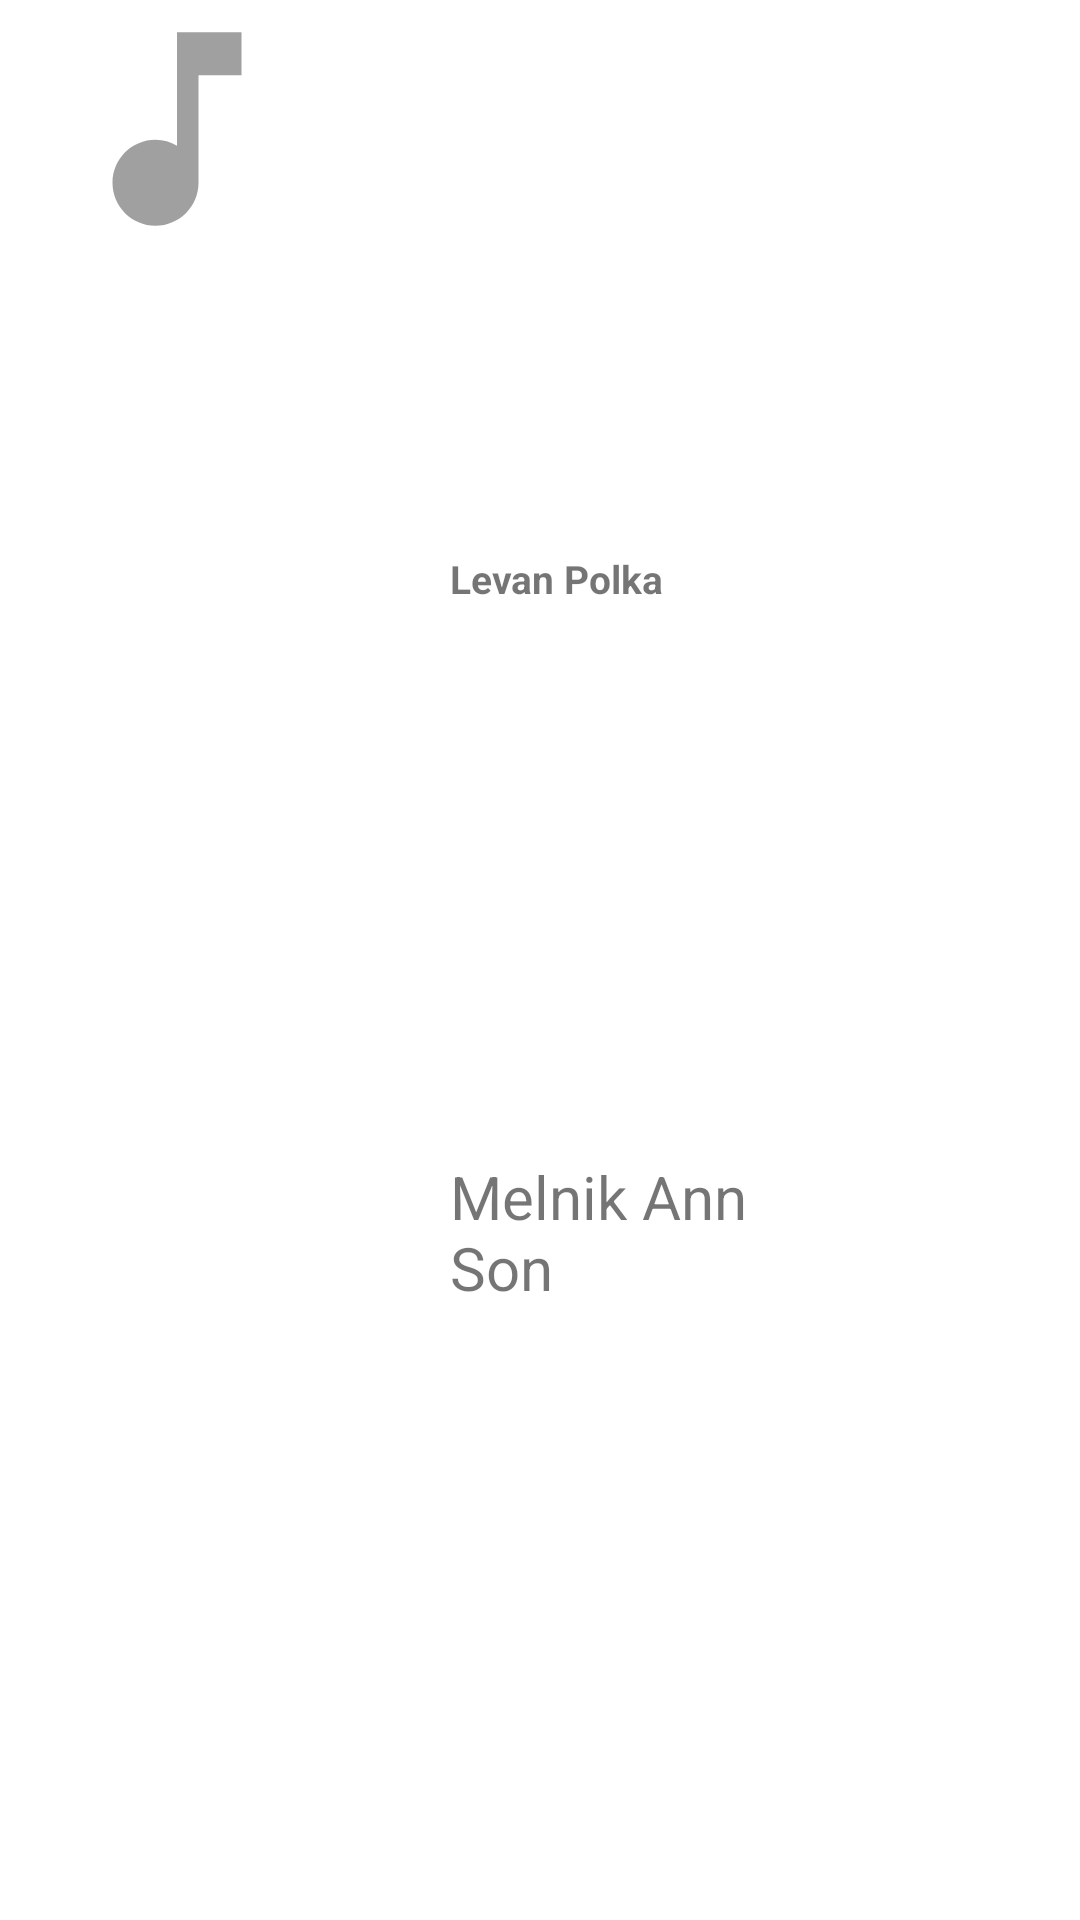

Where icons sit on this 1080×1920 app screen, as (left=x1, top=y1, right=x2, bottom=y2):
music note: (left=112, top=32, right=242, bottom=226)
